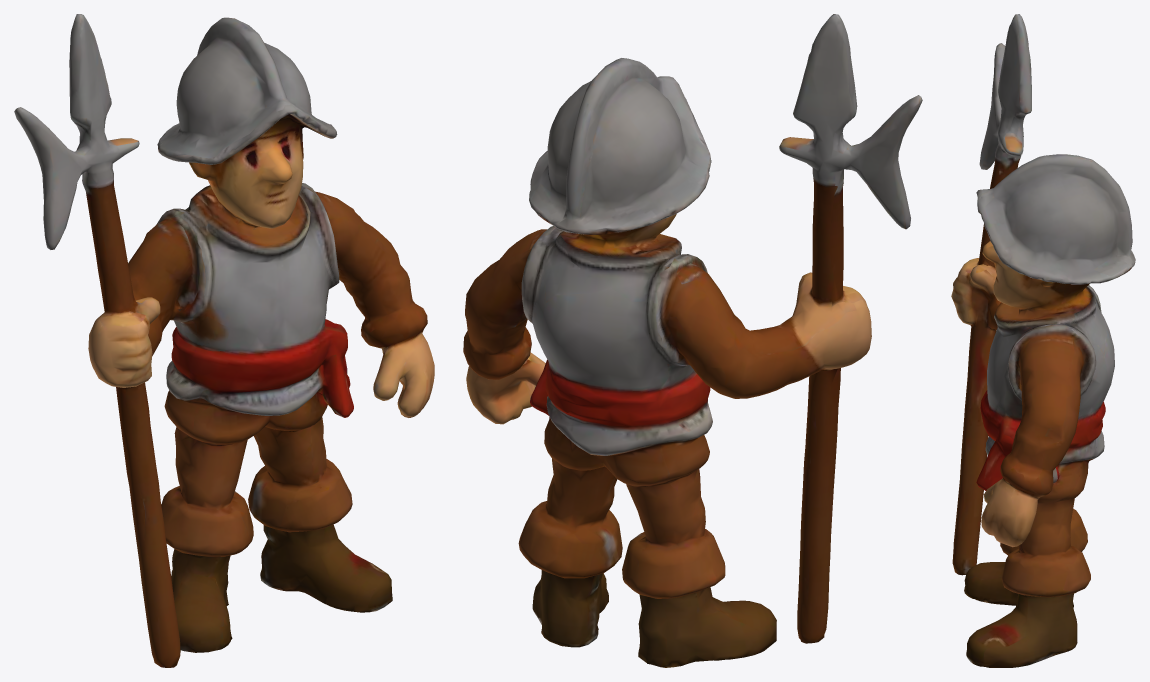
The model's file is char_conquistador.glb.
The picture shows the model from 3 angles, left to right: view 1: azimuth 30°, elevation 25°; view 2: azimuth 150°, elevation 25°; view 3: azimuth 270°, elevation 25°; orthographic projection. The views are drawn at different scales.
Visible parts, largest first — view 1: geometry_0; view 2: geometry_0; view 3: geometry_0.
Part boxes in pixels (bbox=[...]): geometry_0: bbox=[14, 14, 434, 667]; geometry_0: bbox=[463, 14, 922, 667]; geometry_0: bbox=[951, 14, 1135, 667].
Size of the model in its own units: 1.37 by 1.96 by 0.6127.
Materials: 1 (1 with a texture image).
